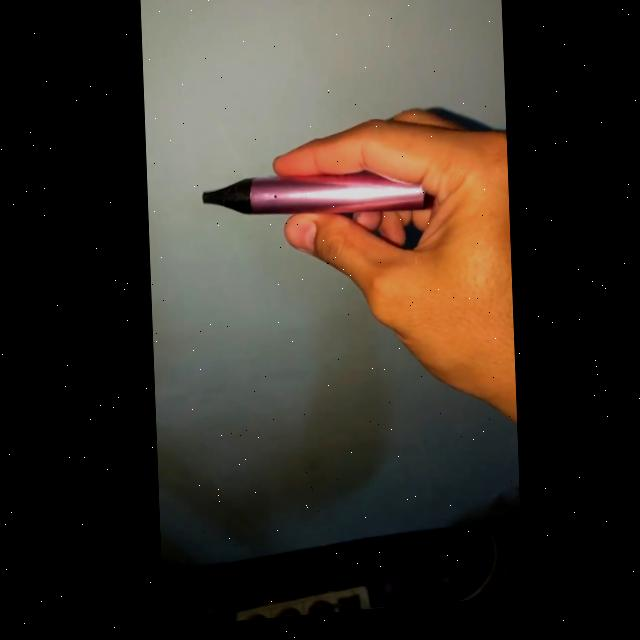vape: (199, 172, 424, 229)
